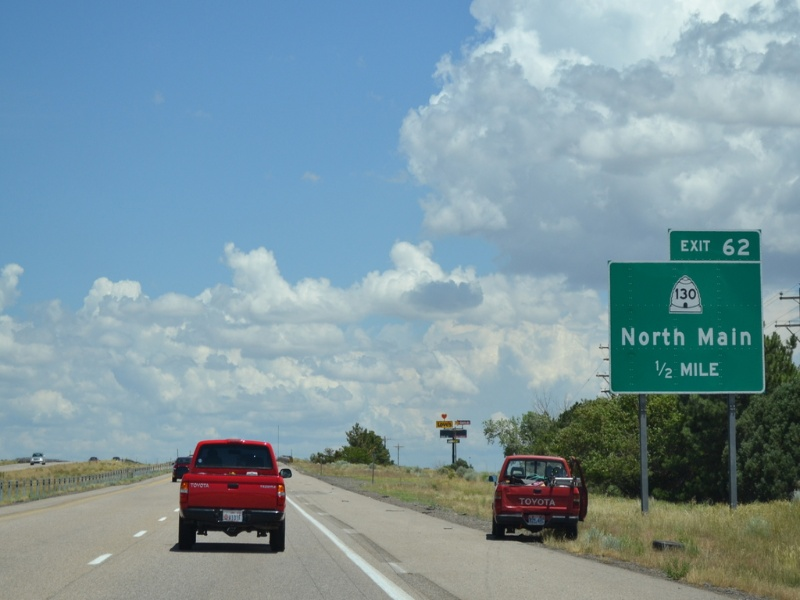exit: (669, 229, 767, 268)
